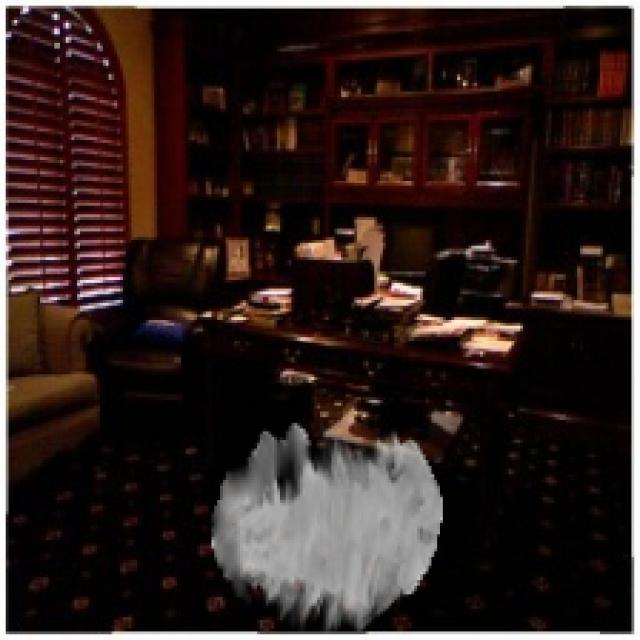smoke: (211, 423, 443, 634)
